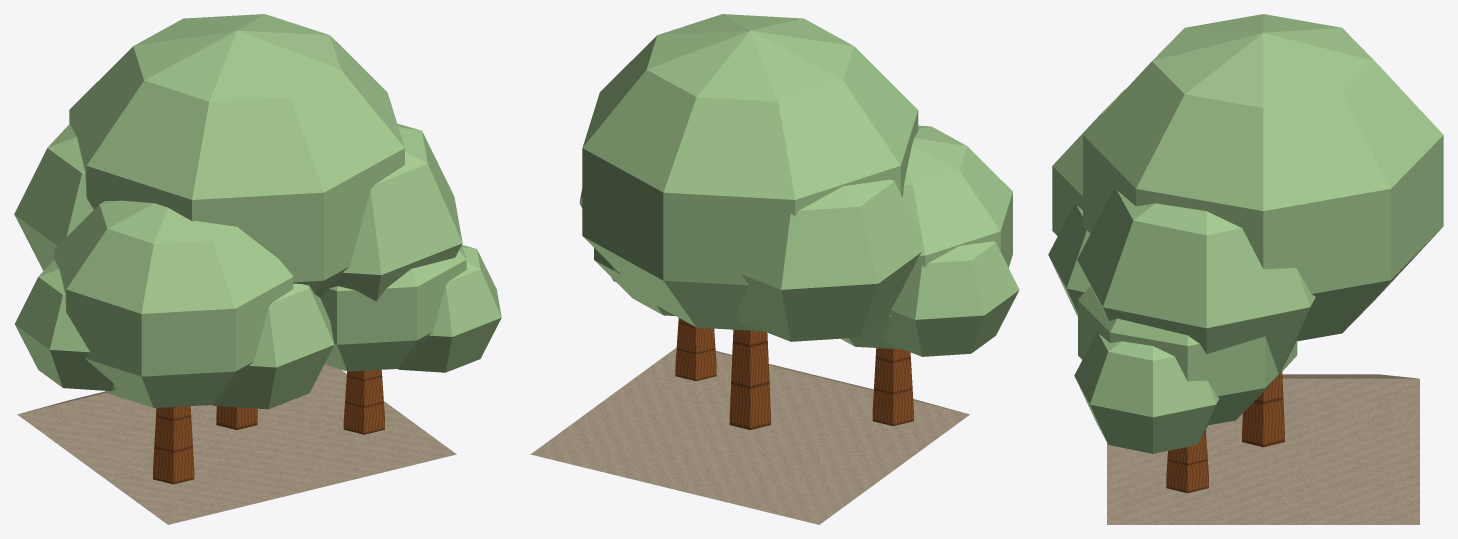
File: dog-agility-and-training-field-tree-clump-c836c330__35619.glb
3 views of the same model, side by side, from view 1: azimuth 30°, elevation 25°; view 2: azimuth 150°, elevation 25°; view 3: azimuth 270°, elevation 25° (orthographic). The views are drawn at different scales.
Parts seen in each view (by area): view 1: tree-clump-grass, tree-clump-soil, tree-clump-timber; view 2: tree-clump-grass, tree-clump-soil, tree-clump-timber; view 3: tree-clump-grass, tree-clump-soil, tree-clump-timber.
Part boxes in pixels (x1=…): tree-clump-grass: x1=14, y1=14, x2=501, y2=409; tree-clump-soil: x1=17, y1=364, x2=456, y2=524; tree-clump-timber: x1=153, y1=370, x2=384, y2=484; tree-clump-grass: x1=579, y1=14, x2=1019, y2=356; tree-clump-soil: x1=530, y1=347, x2=969, y2=524; tree-clump-timber: x1=675, y1=318, x2=913, y2=429; tree-clump-grass: x1=1048, y1=14, x2=1443, y2=453; tree-clump-soil: x1=1107, y1=374, x2=1419, y2=524; tree-clump-timber: x1=1166, y1=372, x2=1284, y2=493.
Size of the model in its own units: 3.16 by 2.8 by 2.4.
3 materials, 2 textured.
